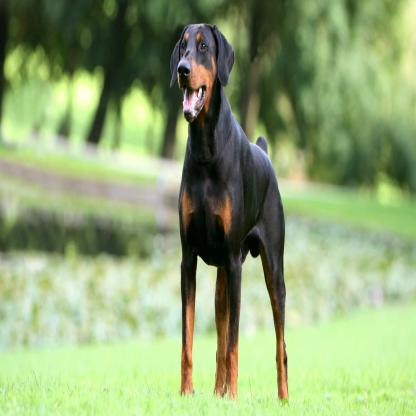dobermann: (152, 20, 298, 416)
